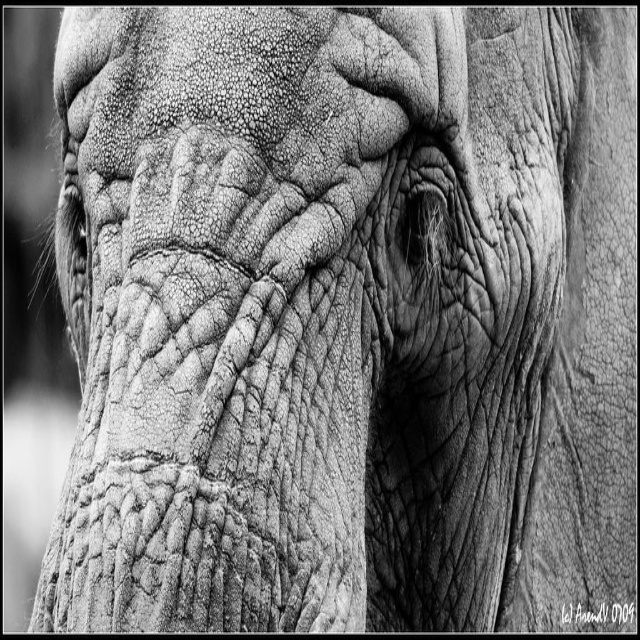Elephant: (20, 0, 617, 639)
